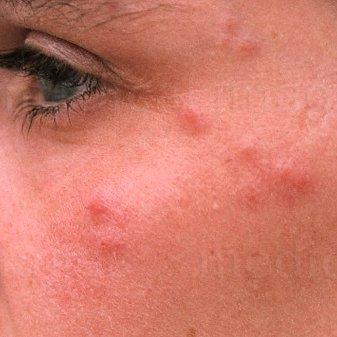Mosquito: (261, 156, 317, 209), (217, 15, 263, 60), (84, 189, 121, 225), (173, 107, 211, 141), (237, 187, 267, 211), (237, 135, 258, 161)
